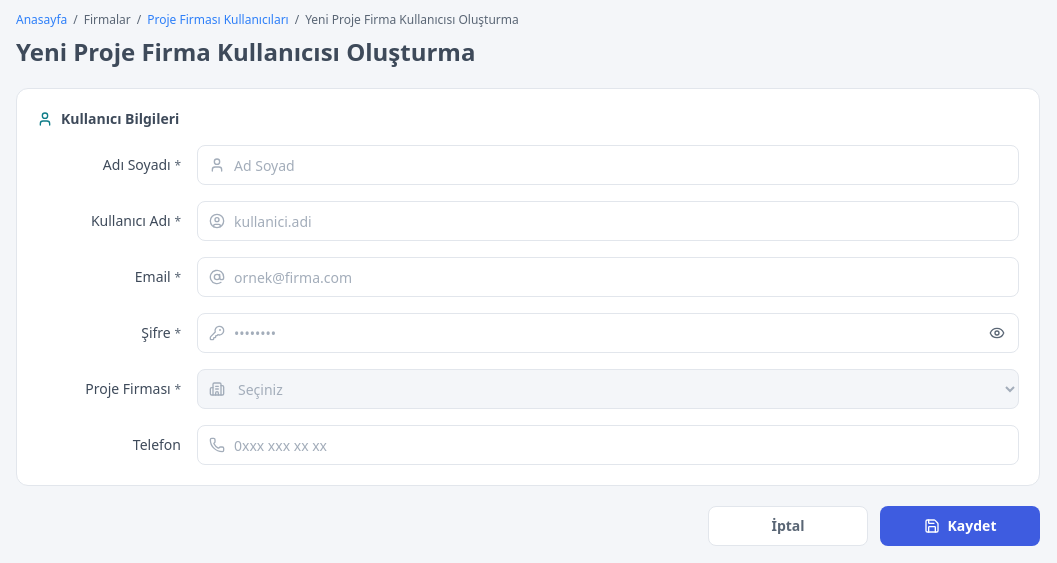
Scenario: kullanıcı adının üretilmesi (KK-15) › ad soyad yazıldıkça kullanıcı adı dolar
In the field labelled "Adı Soyadı *": (608,165) [197, 145, 1019, 185], type "Bülent Sarıoğlu"
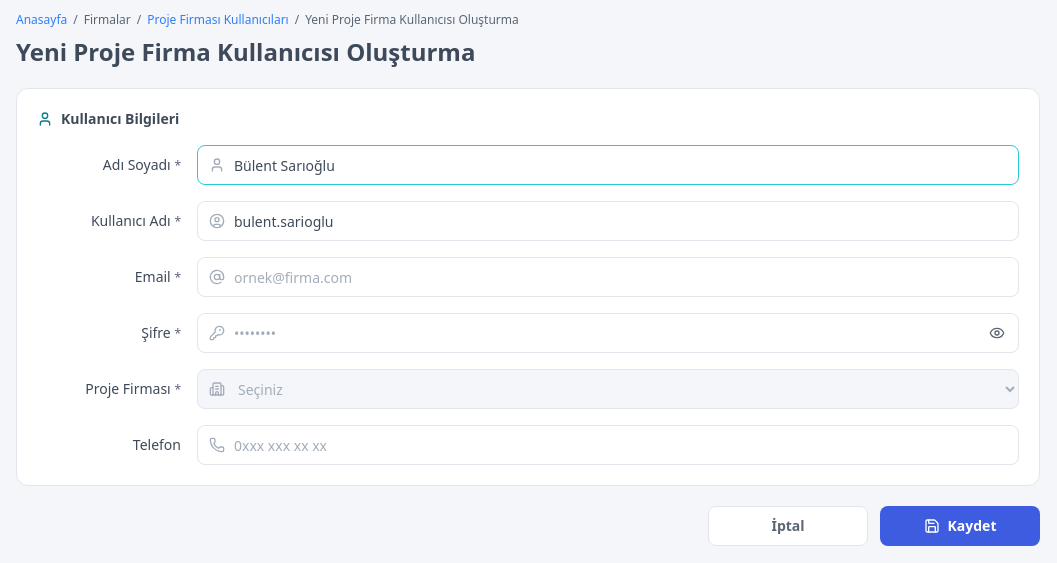
Check: the field labelled "Kullanıcı Adı *" holds "bulent.sarioglu", box [197, 201, 1019, 241]
